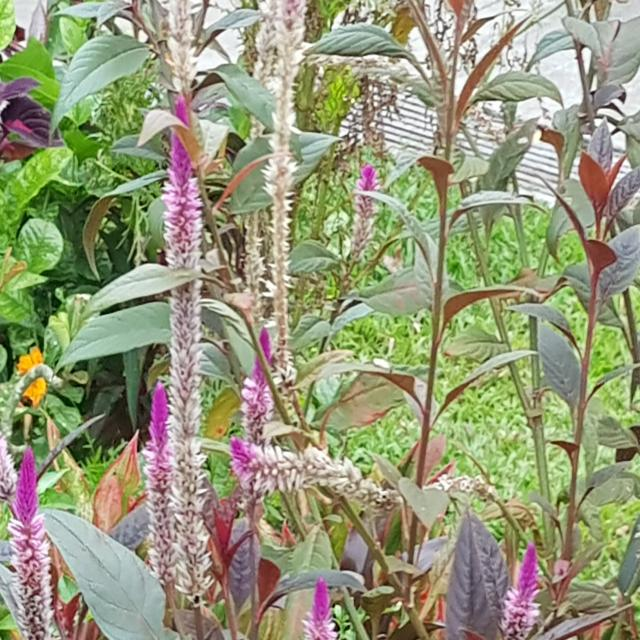Celosia-Argentea: (154, 83, 226, 610), (235, 438, 478, 516), (127, 377, 180, 610), (1, 429, 55, 640), (225, 315, 288, 458), (344, 151, 390, 302), (496, 529, 553, 640), (300, 576, 342, 640)
